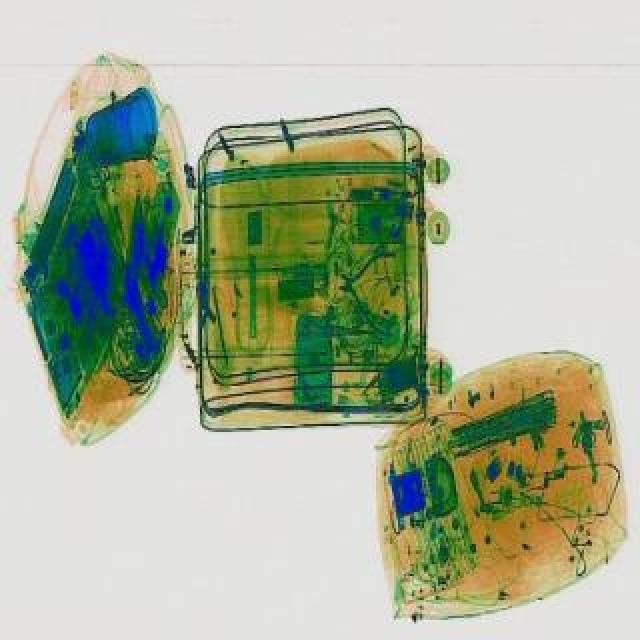wrench: (332, 242, 400, 334)
